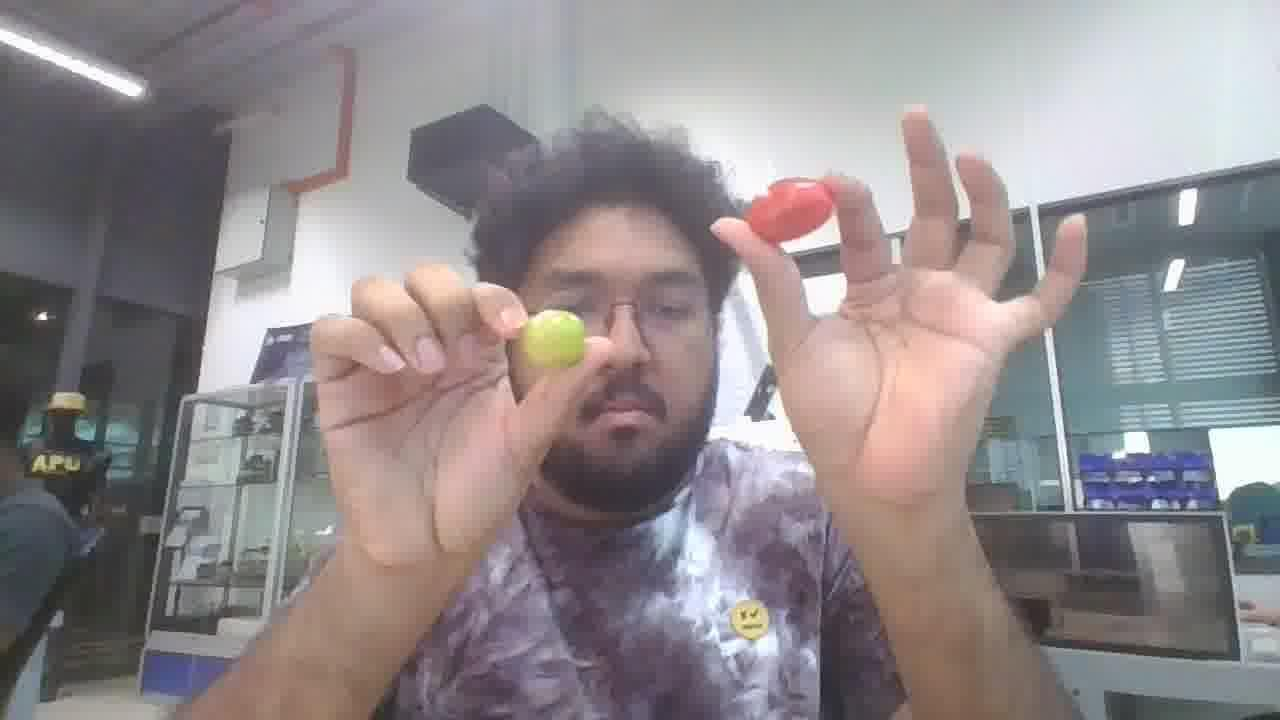green_cherry_tomato: (516, 309, 584, 368)
red_cherry_tomato: (746, 178, 833, 244)
